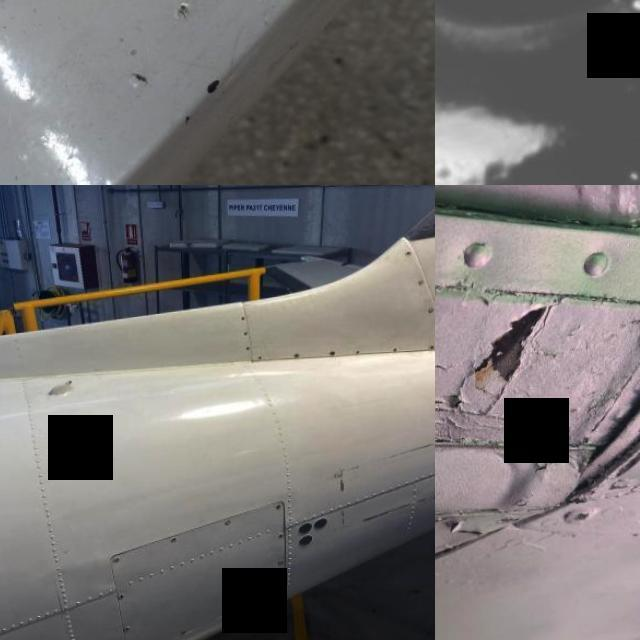Crack: (460, 297, 568, 396), (107, 42, 225, 132), (289, 0, 367, 20)
Missing_Fastener: (292, 356, 300, 364), (328, 355, 336, 361), (244, 350, 250, 356), (354, 354, 361, 359), (392, 353, 399, 358), (240, 320, 245, 325), (258, 359, 262, 364), (430, 350, 434, 355)
